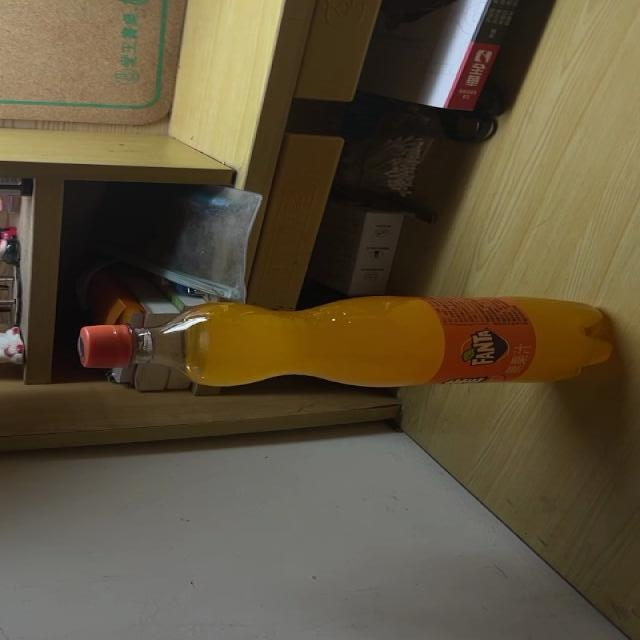Fanta: (77, 294, 618, 390)
